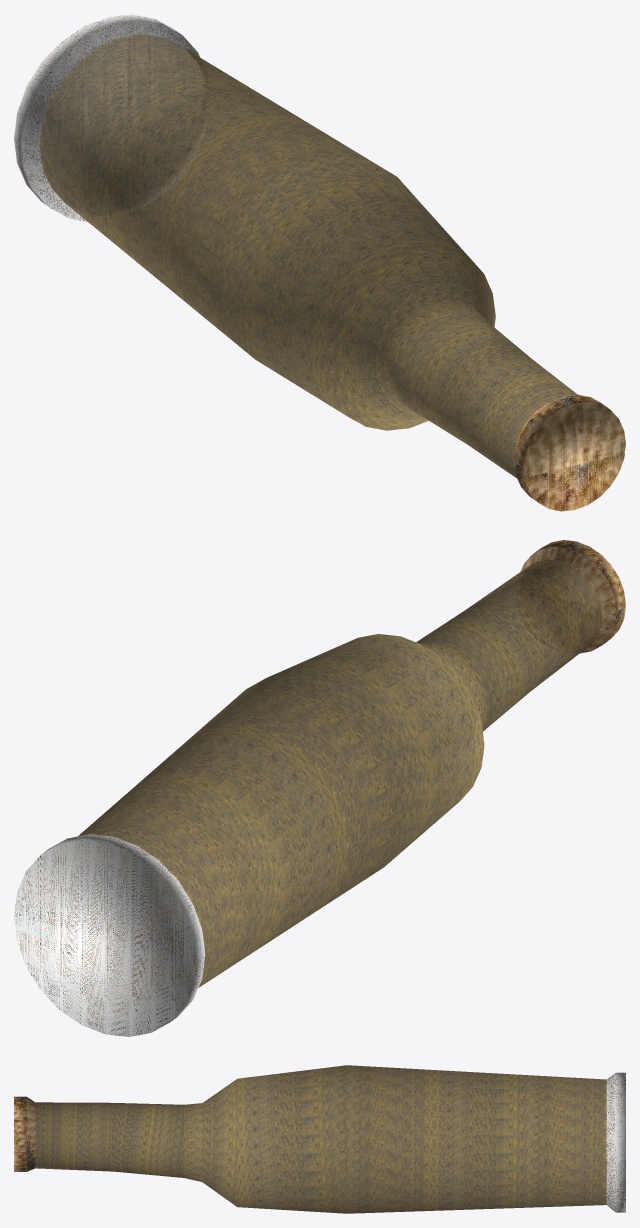
File: model_align.obj
3 renders of one model, top to bottom at view 1: azimuth 30°, elevation 25°; view 2: azimuth 150°, elevation 25°; view 3: azimuth 270°, elevation 25°, orthographic. The views are drawn at different scales.
Parts seen in each view (by area): view 1: mesh1_mesh1-geometry; view 2: mesh1_mesh1-geometry; view 3: mesh1_mesh1-geometry.
Boxes of the visible parts, x1,y1,x2,y2 form: mesh1_mesh1-geometry: [14, 14, 625, 511]; mesh1_mesh1-geometry: [14, 540, 625, 1036]; mesh1_mesh1-geometry: [14, 1065, 625, 1213].
Bounding box in the file's own units: 0.0372 × 0.0372 × 0.1527.
